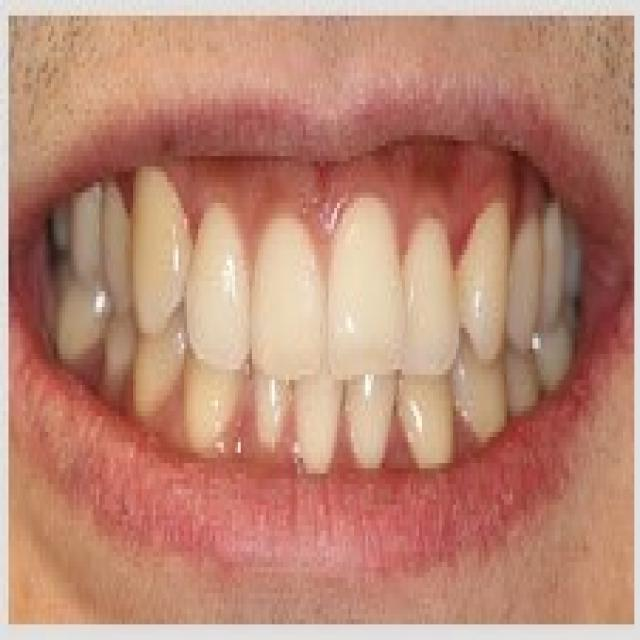tooth: (246, 151, 328, 375), (320, 182, 408, 390), (195, 162, 258, 370), (128, 162, 192, 338), (405, 192, 459, 396), (462, 182, 509, 390), (156, 328, 240, 432), (85, 323, 164, 416), (292, 348, 346, 474), (96, 167, 139, 312), (459, 364, 515, 442), (354, 375, 402, 463), (408, 370, 453, 463), (244, 364, 286, 453), (512, 213, 541, 333)
